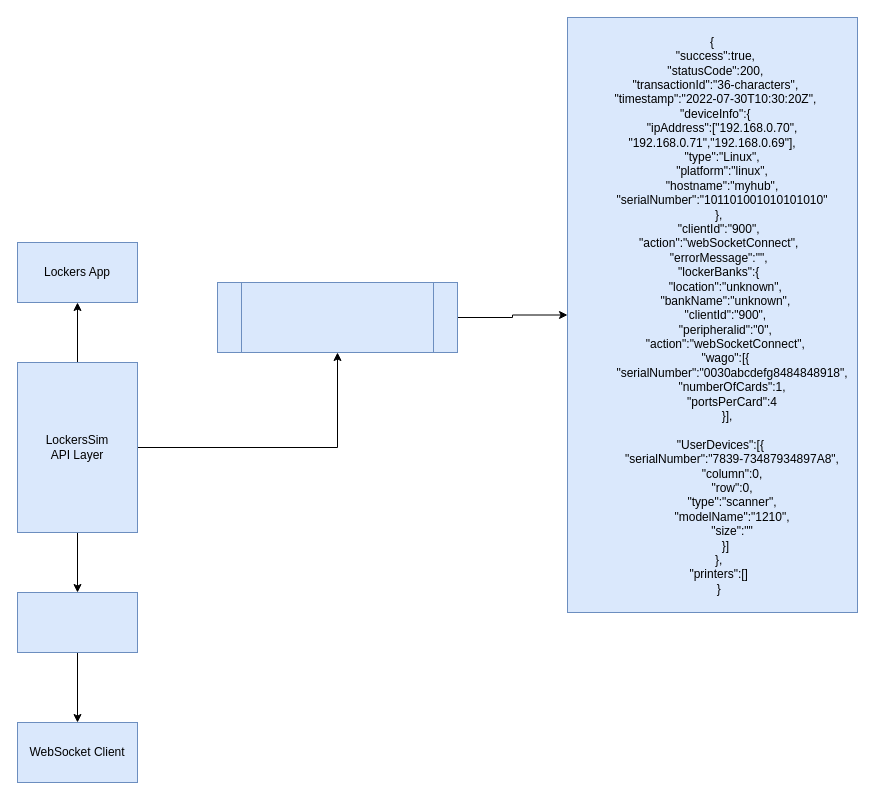
Image size: 875x800. Some labels were removed from this diagram. Each missing label, with the centre of its shape:
"SocketConnect (ws://1.2.3.4:9009?tsn=9090)" goes at [337,317].
"WebSocket Server" goes at [77,622].
